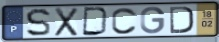C: (110, 6, 138, 35)
D: (81, 6, 110, 37), (169, 5, 196, 35)
G: (139, 6, 167, 35)
S: (24, 7, 52, 38)
X: (54, 7, 80, 38)
